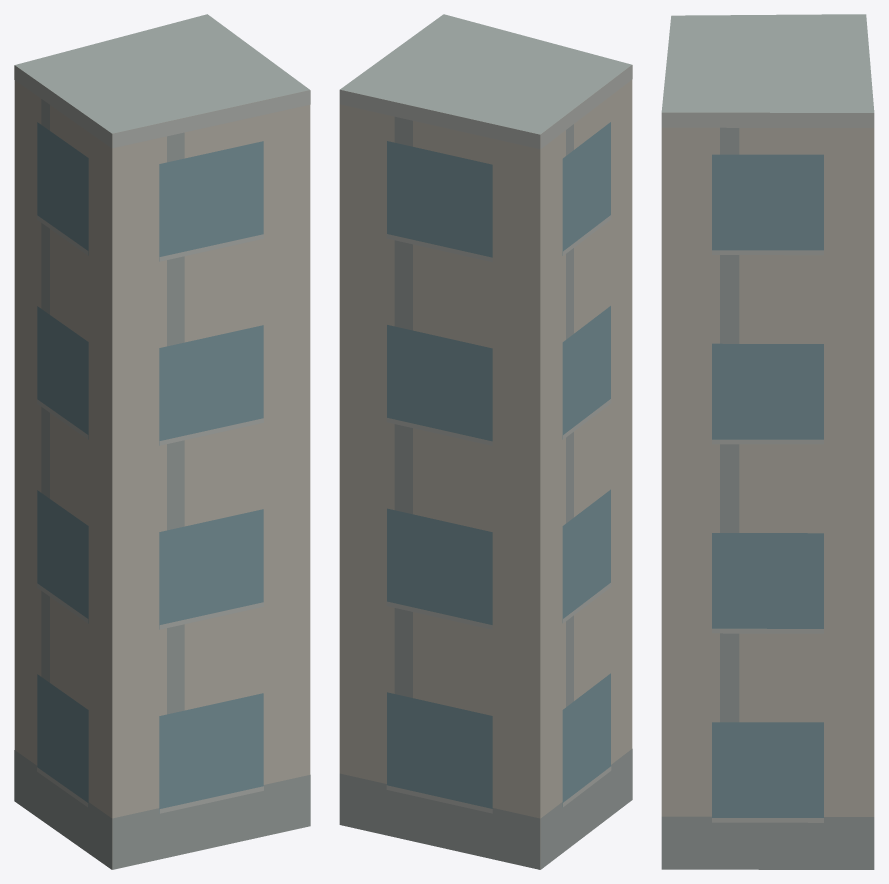
Rendered from survey-upis-32623366.glb.
3 renders of one model, left to right at view 1: azimuth 30°, elevation 25°; view 2: azimuth 150°, elevation 25°; view 3: azimuth 270°, elevation 25°, orthographic. The views are drawn at different scales.
Parts seen in each view (by area): view 1: survey-upis-32623366.tmp; view 2: survey-upis-32623366.tmp; view 3: survey-upis-32623366.tmp.
Boxes of the visible parts, bbox=[...] form: survey-upis-32623366.tmp: bbox=[14, 14, 310, 869]; survey-upis-32623366.tmp: bbox=[339, 14, 632, 869]; survey-upis-32623366.tmp: bbox=[661, 14, 874, 869].
Bounding box in the file's own units: 3.43 × 12.2 × 3.12.
